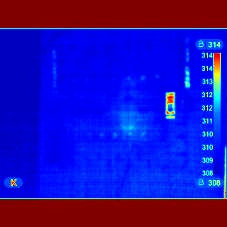Medium: (162, 91, 181, 123)
